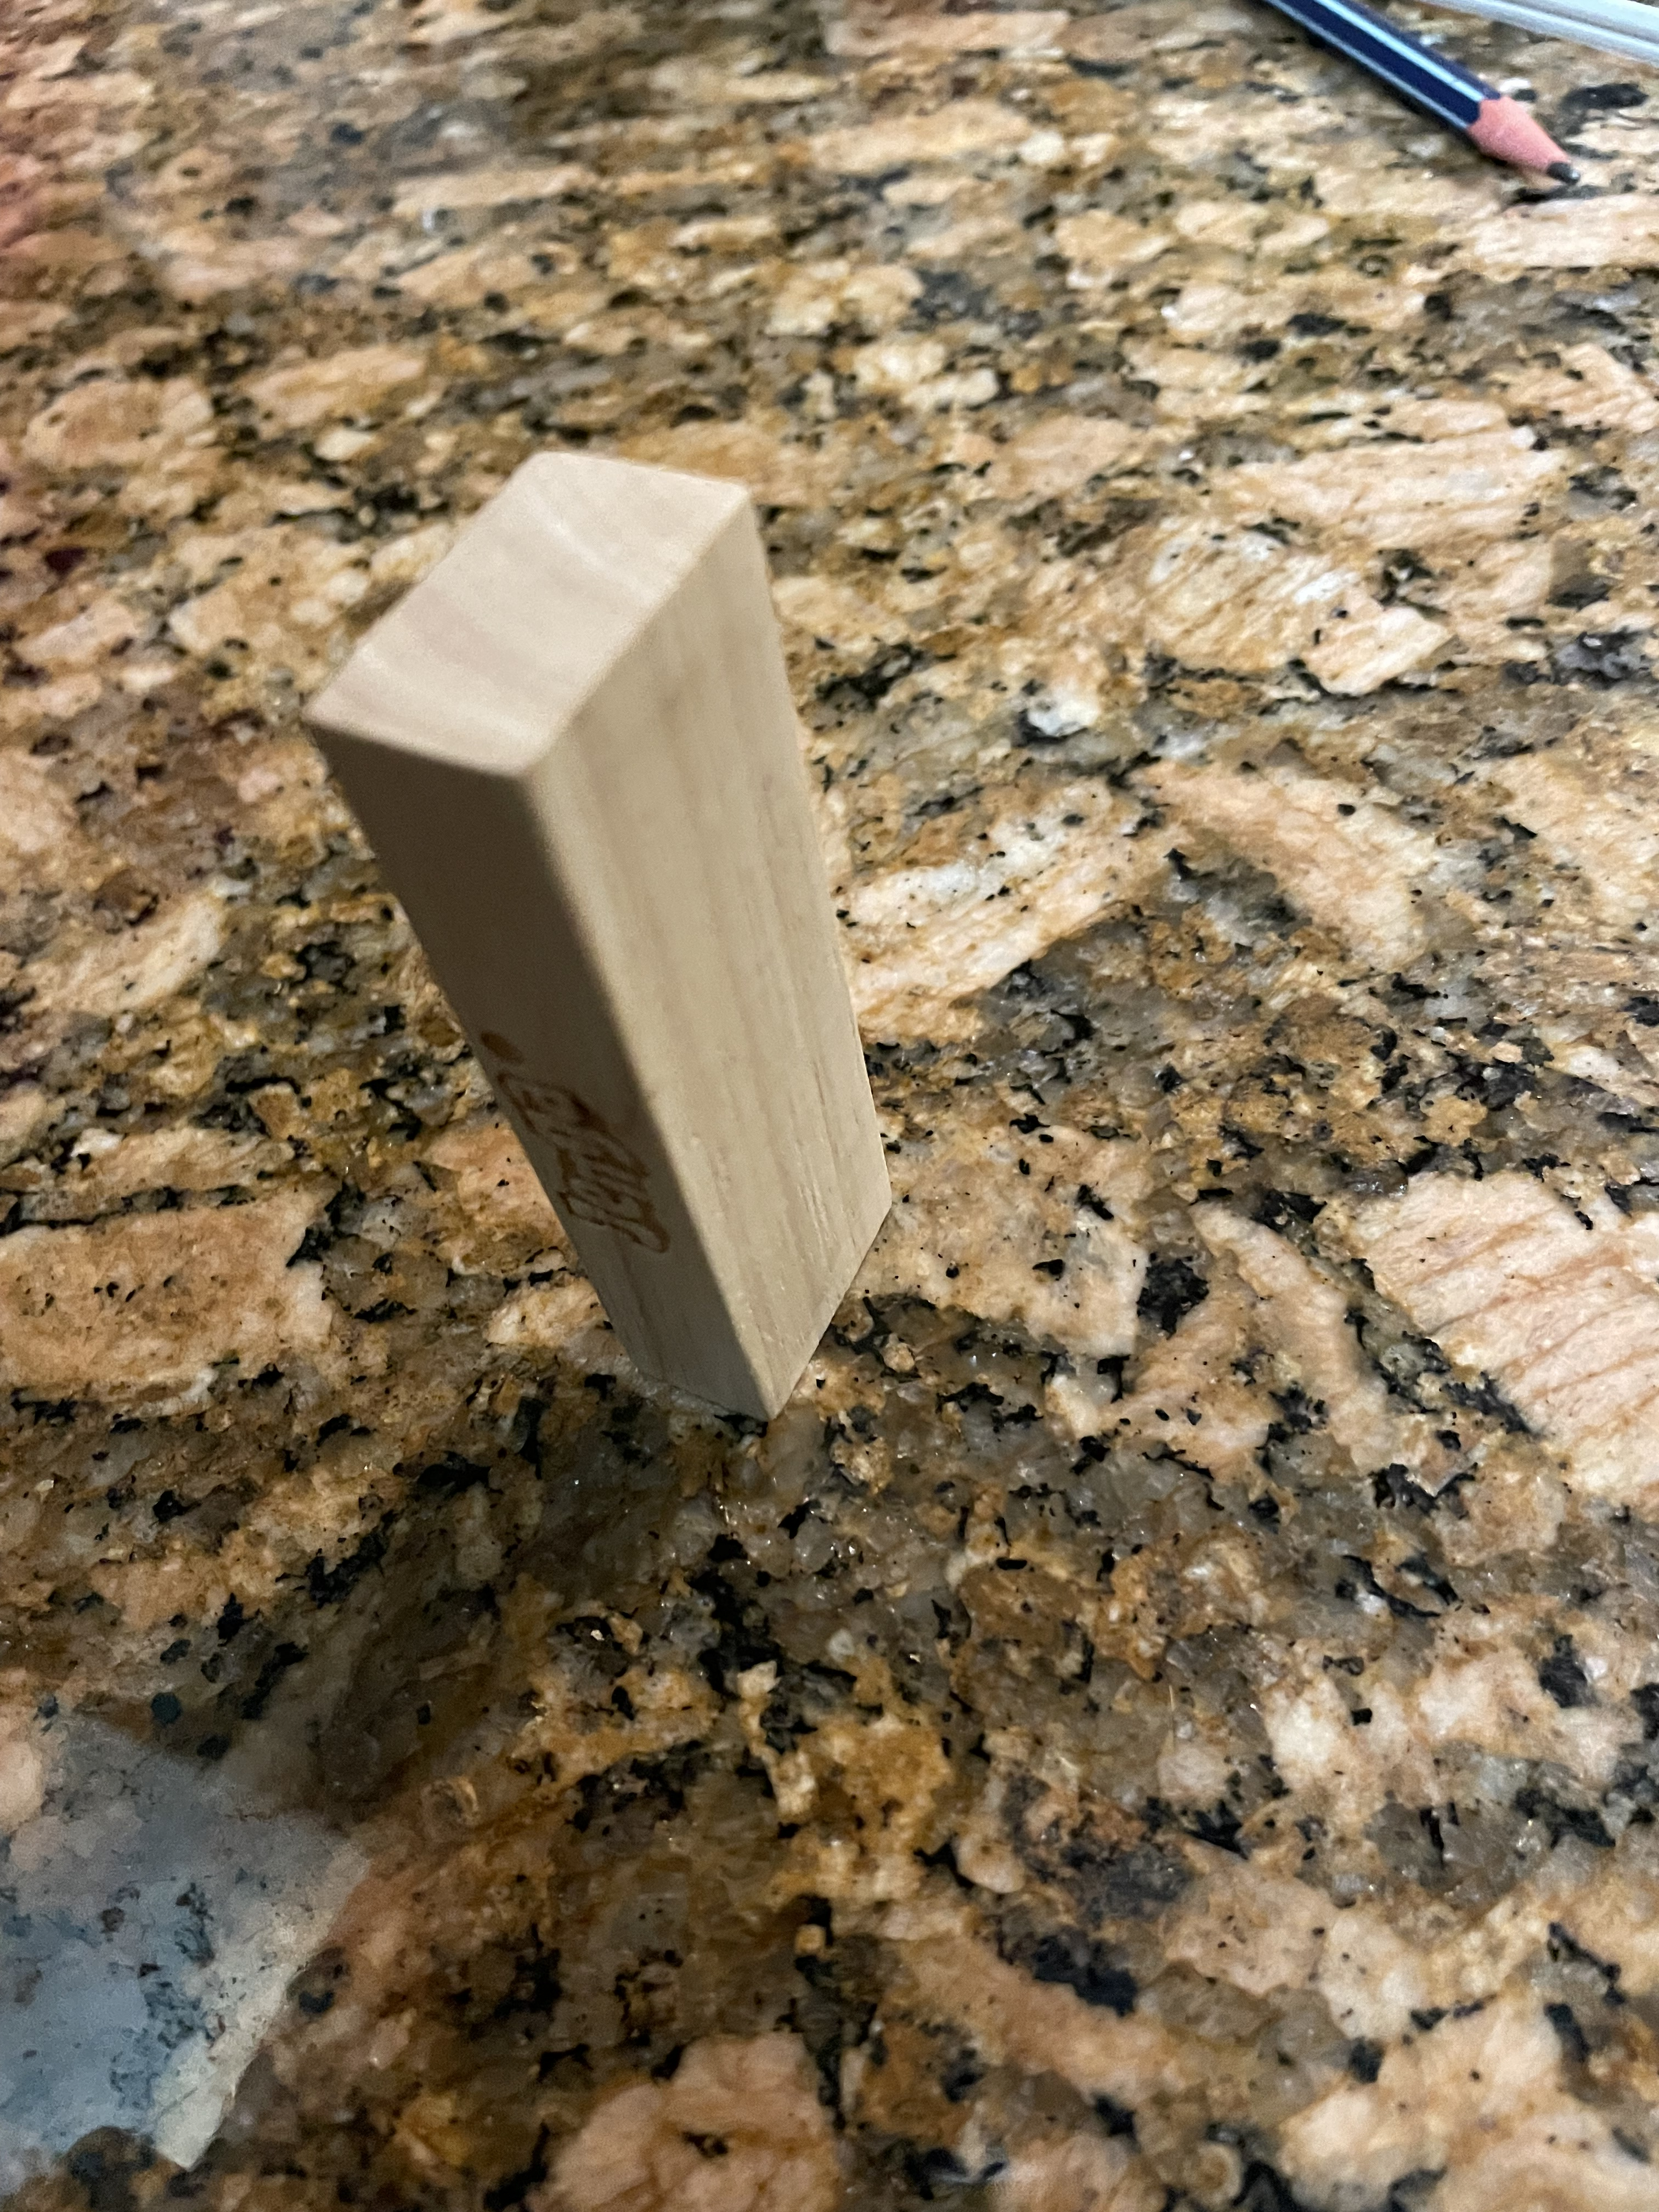jenga: (301, 449, 889, 1428)
